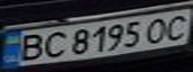1: (87, 24, 109, 53)
5: (121, 18, 148, 48)
8: (69, 26, 93, 56)
9: (106, 20, 130, 52)
B: (9, 30, 48, 63)
C: (157, 11, 193, 42), (36, 29, 69, 60)
O: (139, 15, 175, 44)
